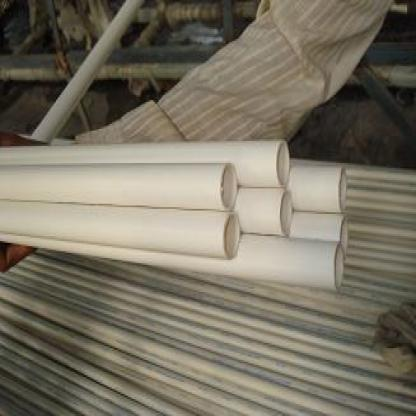PVC: (2, 143, 349, 295)
